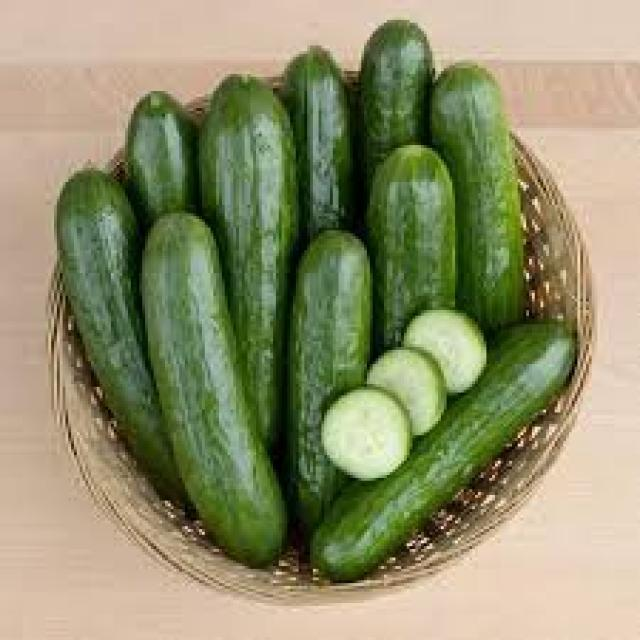cucumber: (298, 319, 579, 576), (140, 216, 289, 567), (55, 168, 189, 490), (196, 73, 299, 447), (430, 59, 538, 346), (291, 223, 373, 565), (369, 142, 460, 372), (279, 49, 357, 226)
